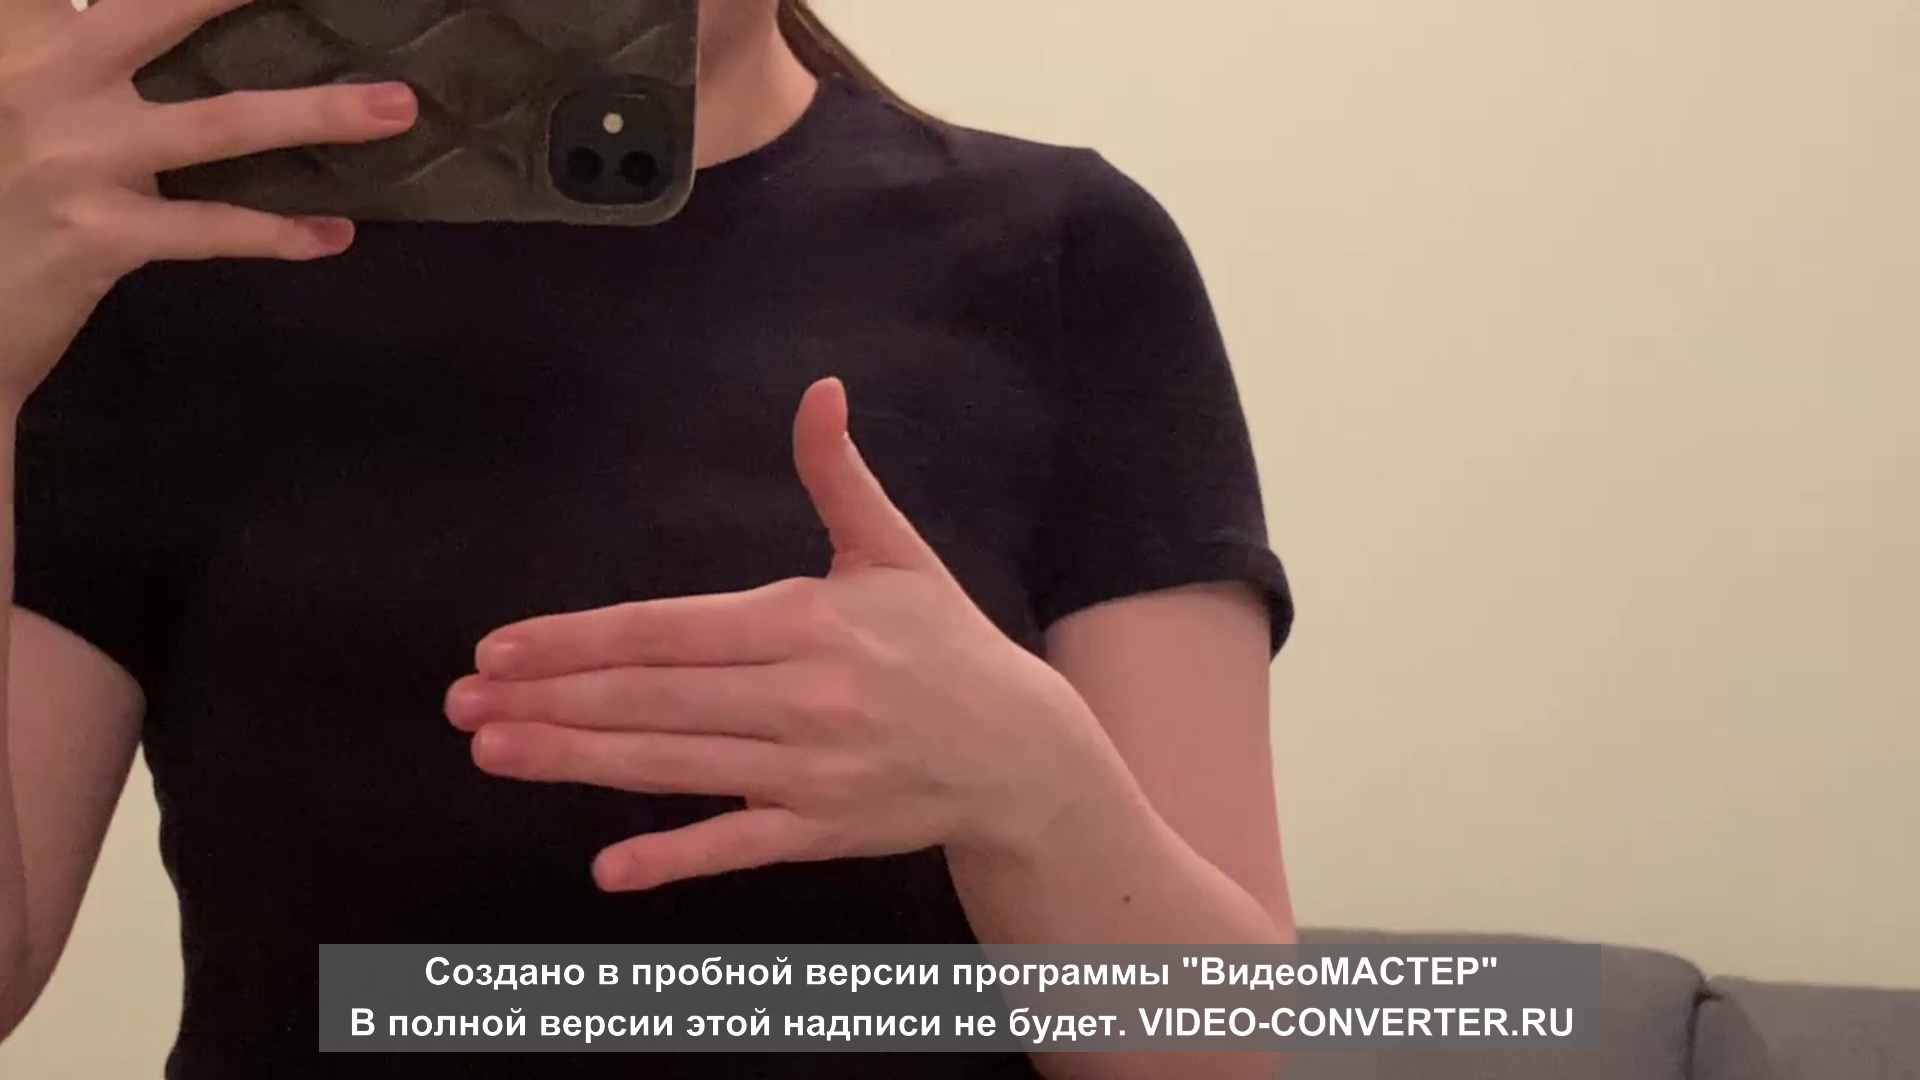Кисть: (450, 375, 968, 893)
